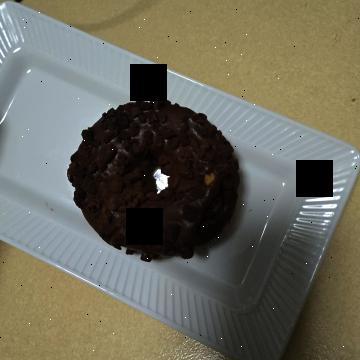doughnut: (87, 115, 274, 306)
